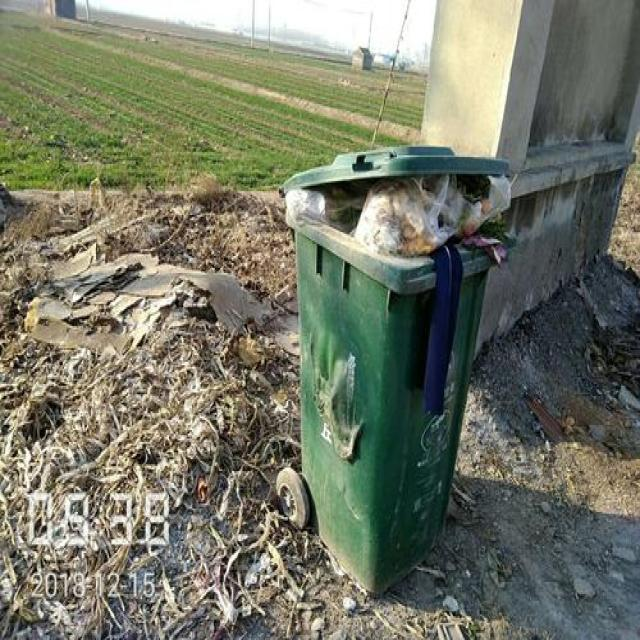overflow: (280, 143, 512, 592)
